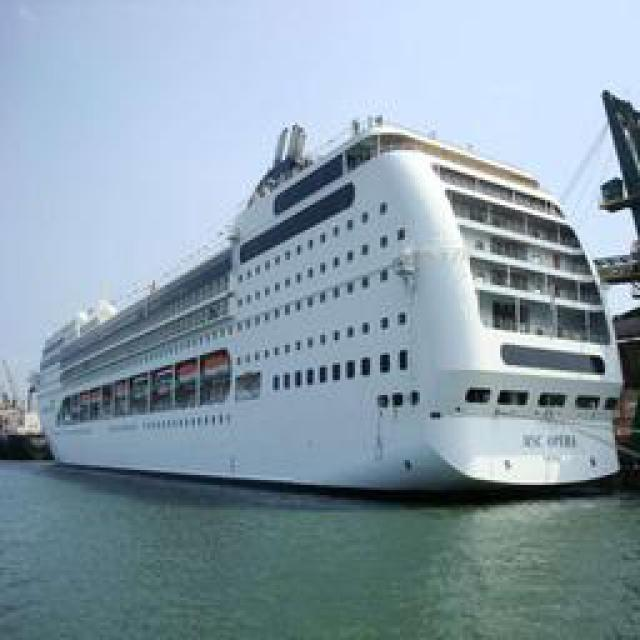Ship: (30, 121, 620, 501)
